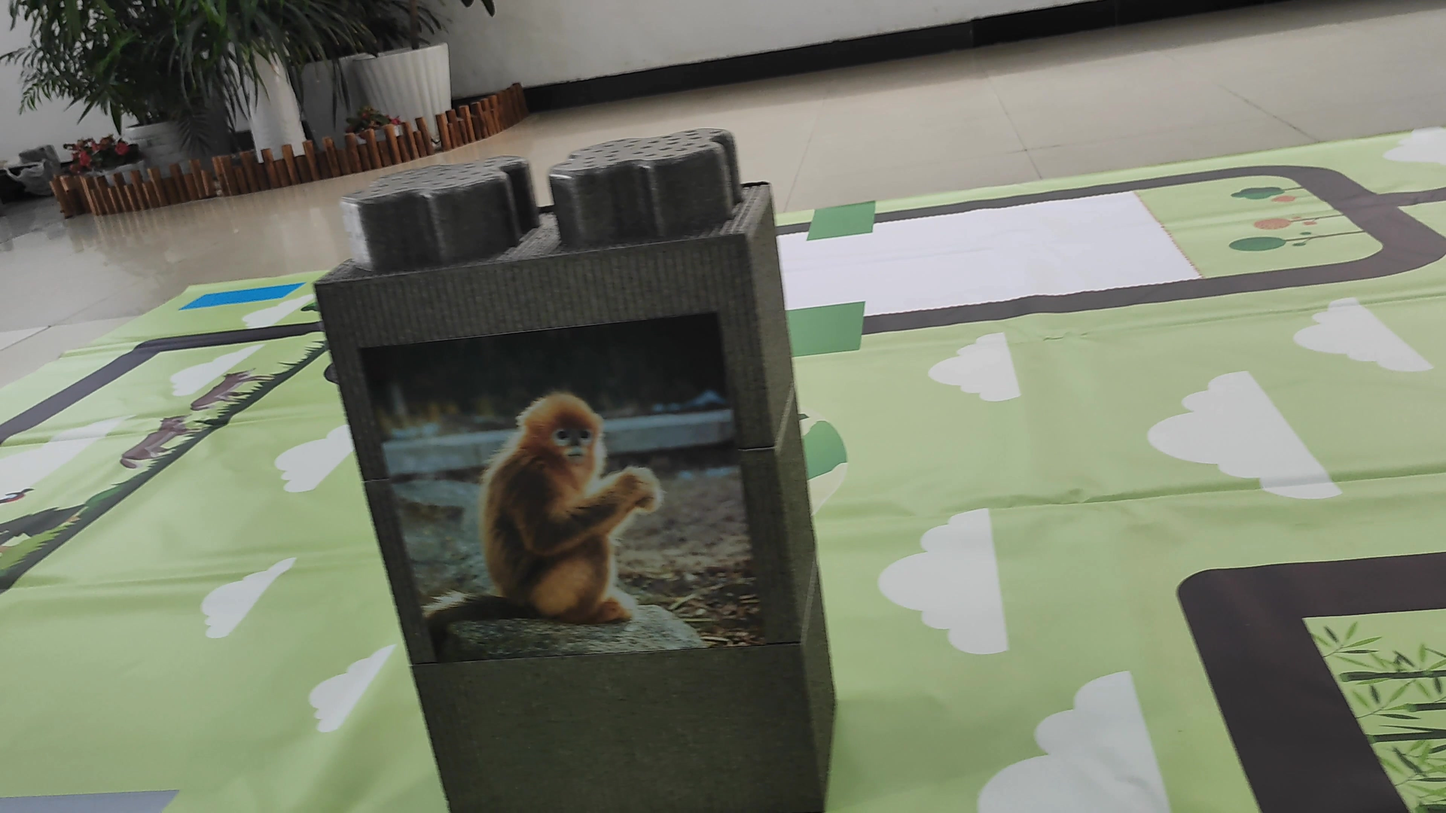monkey: (423, 330, 706, 651)
